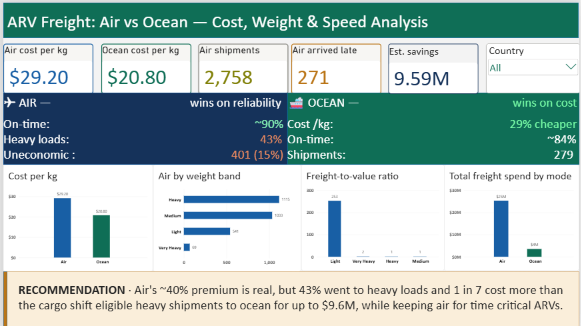

What the dashboard file says about the page in this screenshot:
{"tool":"powerbi","page":{"name":"Page 1","canvas":[1920,1080],"ordinal":0},"visuals":[{"type":"clusteredColumnChart","title":"Cost per kg","fields":{"Category":["SCMS_clean.Shipment Mode"],"Y":["Avg(SCMS_clean.cost_per_kg)"]},"box":[0,540,498,356],"z":0},{"type":"clusteredBarChart","title":"Air by weight band","fields":{"Category":["SCMS_clean.weight_bands"],"Y":["CountNonNull(SCMS_clean.Shipment Mode)"]},"box":[498.3,540,491.7,356.7],"z":1000},{"type":"cardVisual","title":"Air cost per kg","fields":{"Data":["Avg(SCMS_clean.cost_per_kg)"]},"box":[0,135,300,168],"z":2000},{"type":"cardVisual","title":"Ocean cost per kg","fields":{"Data":["Avg(SCMS_clean.cost_per_kg)"]},"box":[325,135,300,168],"z":3000},{"type":"cardVisual","title":"Air shipments","fields":{"Data":["CountNonNull(SCMS_clean.Shipment Mode)"]},"box":[650,135,300,168],"z":4000},{"type":"cardVisual","title":"Air arrived late","fields":{"Data":["CountNonNull(SCMS_clean.ID)"]},"box":[960,135,300,168],"z":5000},{"type":"shape","box":[0,300,947.5,240],"z":10000},{"type":"textbox","box":[0,300,947.5,240],"z":11000},{"type":"shape","box":[946.7,300,973.3,240],"z":12000},{"type":"textbox","box":[946.7,300,973.3,240],"z":13000},{"type":"shape","box":[0,895,1920,185],"z":14000},{"type":"textbox","box":[50,930,1836.7,150],"z":15000},{"type":"clusteredColumnChart","title":"Freight-to-value ratio","fields":{"Category":["SCMS_clean.weight_bands"],"Y":["Avg(SCMS_clean.freight_to_value)"]},"box":[993.3,540,476.7,353.3],"z":16000},{"type":"cardVisual","title":"Est. savings","fields":{"Data":["SCMS_clean.Est Savings"]},"box":[1282.5,135,300,168],"z":17000},{"type":"shape","box":[0,896.7,13.3,183.3],"z":19000},{"type":"slicer","fields":{"Values":["SCMS_clean.Country"]},"box":[1608.3,135,311.7,165],"z":19500},{"type":"clusteredColumnChart","title":"Total freight spend by mode","fields":{"Category":["SCMS_clean.Shipment Mode"],"Y":["Sum(SCMS_clean.freight_clean)"]},"box":[1470,540,448.3,353.3],"z":21001},{"type":"shape","box":[0,0,1917.5,117.5],"z":21002},{"type":"textbox","box":[12.5,27.5,1905,90],"z":21003}]}

Visuals, with their boxes in screenshot pixels (x1, y1, x2, y2), scaled from the page's 1920x1080 canvas onto the 581x326 screenshot:
"Cost per kg" clusteredColumnChart: x1=0 y1=163 x2=151 y2=270
"Air by weight band" clusteredBarChart: x1=151 y1=163 x2=300 y2=271
"Air cost per kg" cardVisual: x1=0 y1=41 x2=91 y2=91
"Ocean cost per kg" cardVisual: x1=98 y1=41 x2=189 y2=91
"Air shipments" cardVisual: x1=197 y1=41 x2=287 y2=91
"Air arrived late" cardVisual: x1=290 y1=41 x2=381 y2=91
shape: x1=0 y1=91 x2=287 y2=163
textbox: x1=0 y1=91 x2=287 y2=163
shape: x1=286 y1=91 x2=580 y2=163
textbox: x1=286 y1=91 x2=580 y2=163
shape: x1=0 y1=270 x2=580 y2=325
textbox: x1=15 y1=281 x2=571 y2=325
"Freight-to-value ratio" clusteredColumnChart: x1=301 y1=163 x2=445 y2=270
"Est. savings" cardVisual: x1=388 y1=41 x2=479 y2=91
shape: x1=0 y1=271 x2=4 y2=325
slicer - SCMS_clean.Country: x1=487 y1=41 x2=580 y2=91
"Total freight spend by mode" clusteredColumnChart: x1=445 y1=163 x2=580 y2=270
shape: x1=0 y1=0 x2=580 y2=35
textbox: x1=4 y1=8 x2=580 y2=35
